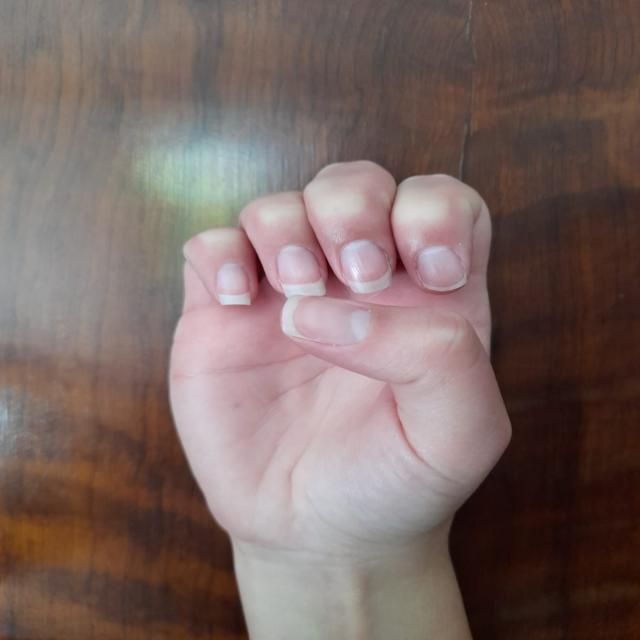E: (139, 156, 549, 554)
